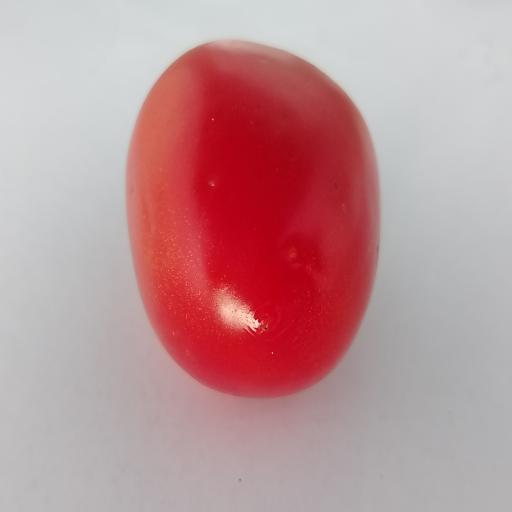ripe: (126, 41, 379, 396)
